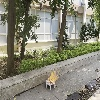fire: (48, 70, 59, 84)
